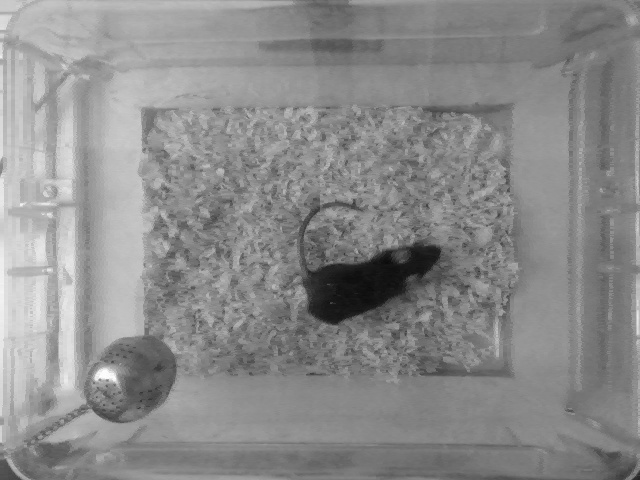mice: (293, 191, 442, 323)
